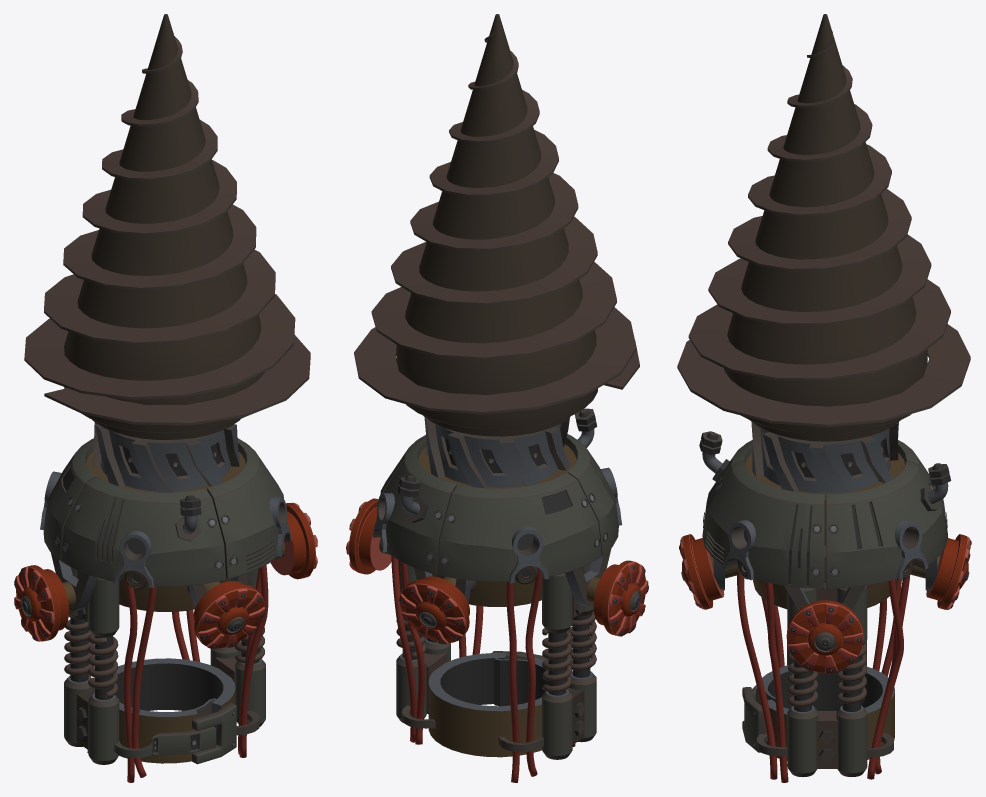
Rendered from drill.fbx.
3 views of the same model, side by side, from view 1: azimuth 30°, elevation 25°; view 2: azimuth 150°, elevation 25°; view 3: azimuth 270°, elevation 25° (orthographic).
Visible parts, largest first — view 1: Cylinder, Circle, Cylinder.020, Cylinder.007, Cylinder.004, Cylinder.019, Cylinder.011, Cylinder.018, BezierCurve.003, Cylinder.013, Cylinder.023, Cylinder.003 (+12 smaller); view 2: Cylinder, Circle, Cylinder.018, Cylinder.004, Cylinder.007, Cylinder.009, Cylinder.005, BezierCurve.002, Cylinder.020, Cylinder.022, BezierCurve.001, Cylinder.023 (+10 smaller); view 3: Cylinder, Circle, Cylinder.019, Cylinder.009, Cylinder.007, Cylinder.004, Cylinder.006, BezierCurve, Cylinder.033, Cylinder.010, BezierCurve.001, Cylinder.003 (+10 smaller).
Part boxes in pixels (x1,y1,x2,y2): Cylinder: [64, 14, 264, 439]; Circle: [24, 36, 310, 425]; Cylinder.020: [60, 476, 226, 587]; Cylinder.007: [92, 422, 239, 492]; Cylinder.004: [115, 658, 235, 763]; Cylinder.019: [207, 442, 291, 579]; Cylinder.011: [88, 578, 119, 764]; Cylinder.018: [40, 438, 95, 560]; BezierCurve.003: [123, 572, 156, 782]; Cylinder.013: [193, 581, 264, 648]; Cylinder.023: [16, 565, 68, 641]; Cylinder.003: [86, 451, 245, 611]; Cylinder: [396, 14, 597, 436]; Circle: [354, 32, 639, 414]; Cylinder.018: [437, 472, 601, 583]; Cylinder.004: [428, 653, 548, 757]; Cylinder.007: [424, 417, 569, 488]; Cylinder.009: [372, 438, 456, 574]; Cylinder.005: [542, 573, 572, 759]; BezierCurve.002: [506, 567, 542, 782]; Cylinder.020: [564, 434, 622, 555]; Cylinder.022: [400, 576, 469, 642]; BezierCurve.001: [391, 555, 425, 744]; Cylinder.023: [593, 560, 645, 635]; Cylinder: [724, 14, 927, 441]; Circle: [677, 30, 970, 427]; Cylinder.019: [702, 460, 824, 588]; Cylinder.009: [826, 460, 947, 588]; Cylinder.007: [751, 422, 898, 493]; Cylinder.004: [756, 665, 894, 760]; Cylinder.006: [836, 585, 867, 776]; BezierCurve: [737, 569, 788, 782]; Cylinder.033: [786, 600, 863, 672]; Cylinder.010: [787, 587, 818, 776]; BezierCurve.001: [867, 575, 909, 779]; Cylinder.003: [745, 453, 905, 609].
Size of the model in its own units: 183 by 458 by 164.
